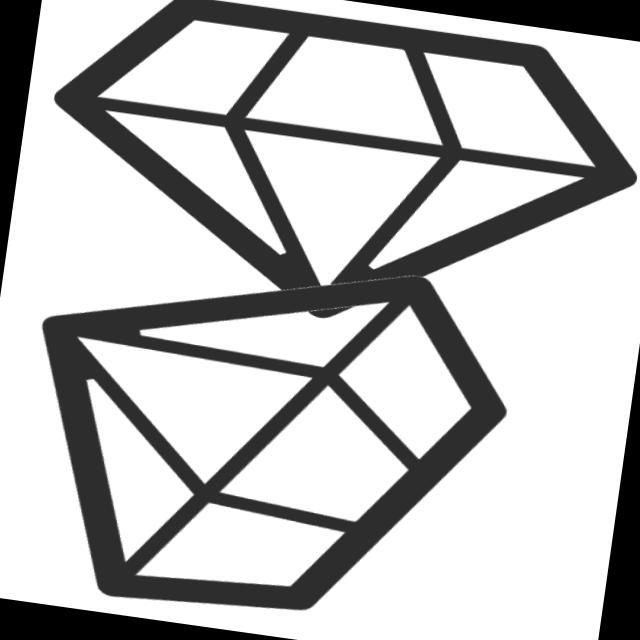diamond: (17, 1, 640, 368), (1, 216, 539, 640)
